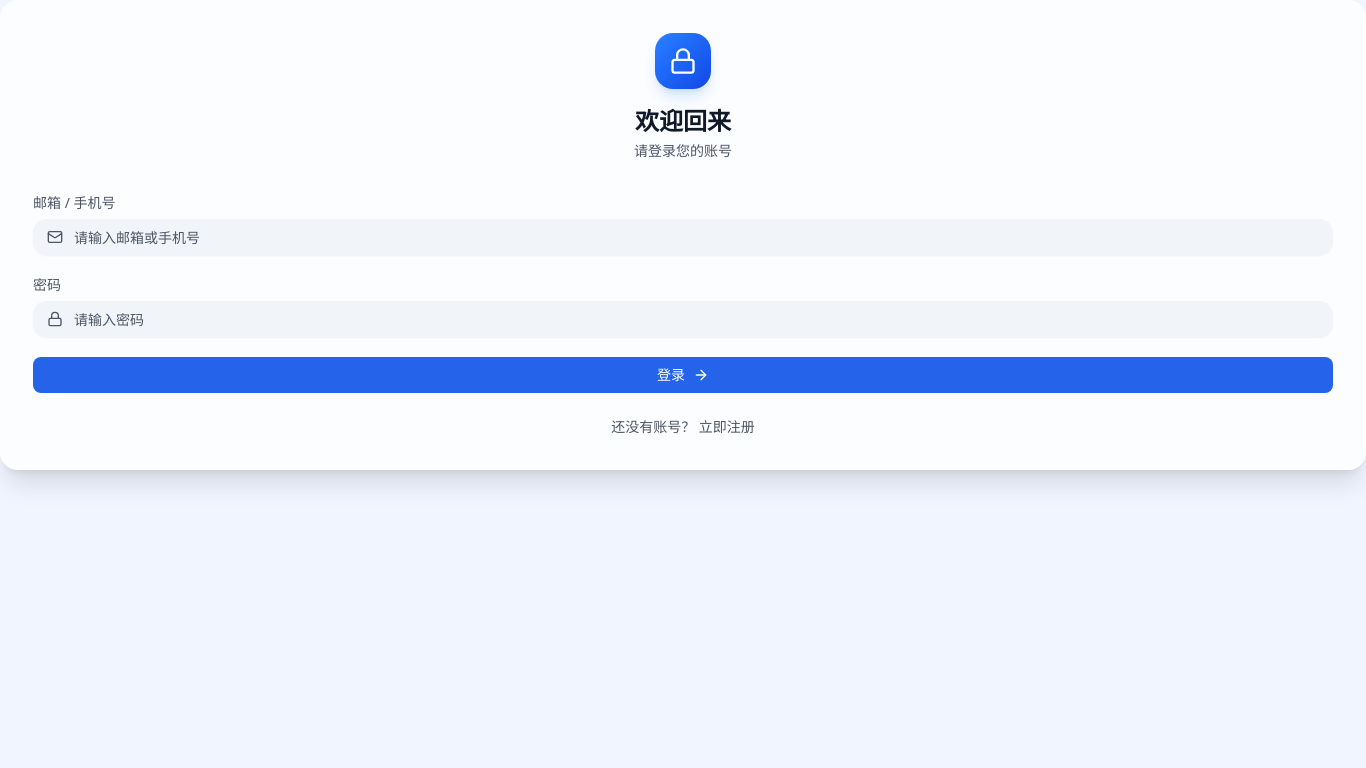
LoginForm › shows password validation error for short password
This screenshot has width=1366, height=768.
Step 1. Type "12" into the password field labelled "密码" → (683, 319), box top-left (33, 301), bottom-right (1333, 337)
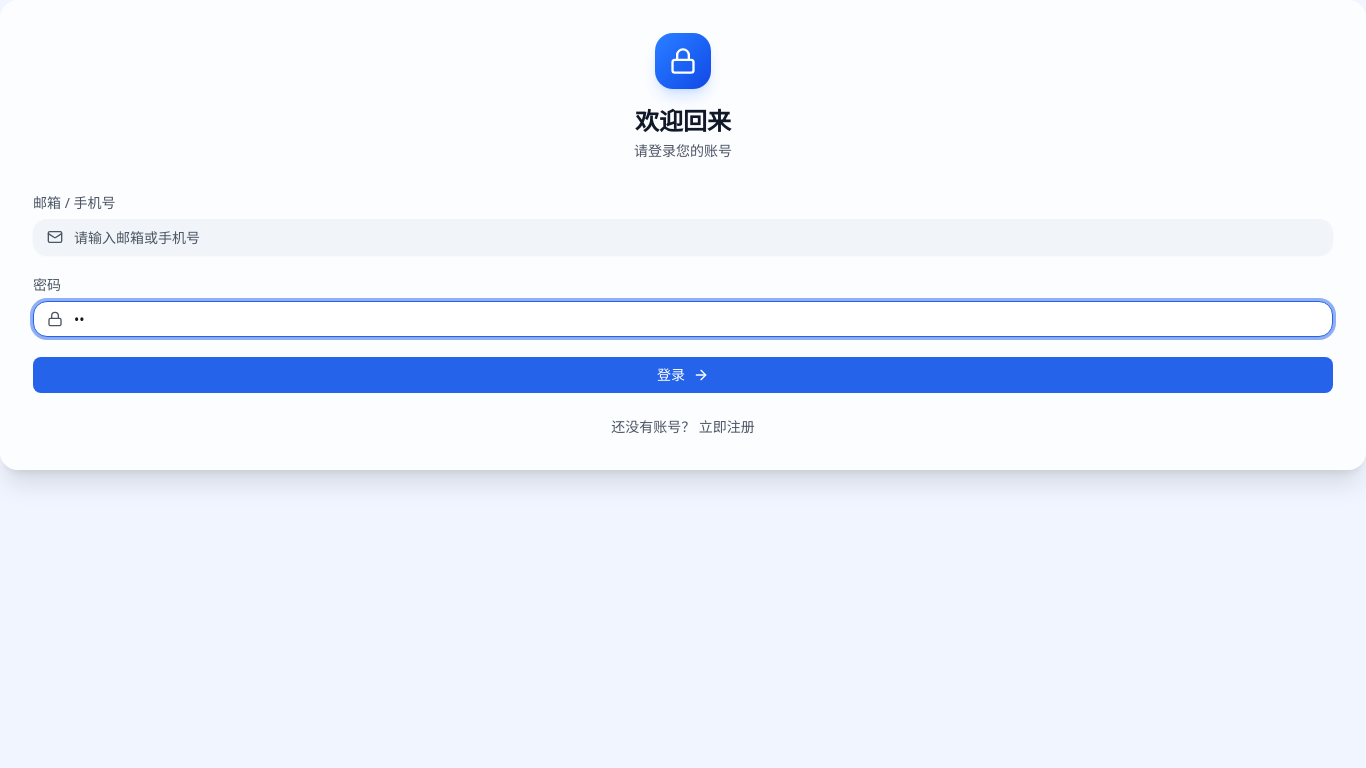
# Trigger blur
Step 2. Click the button "登录" → (683, 375), box top-left (33, 357), bottom-right (1333, 393)
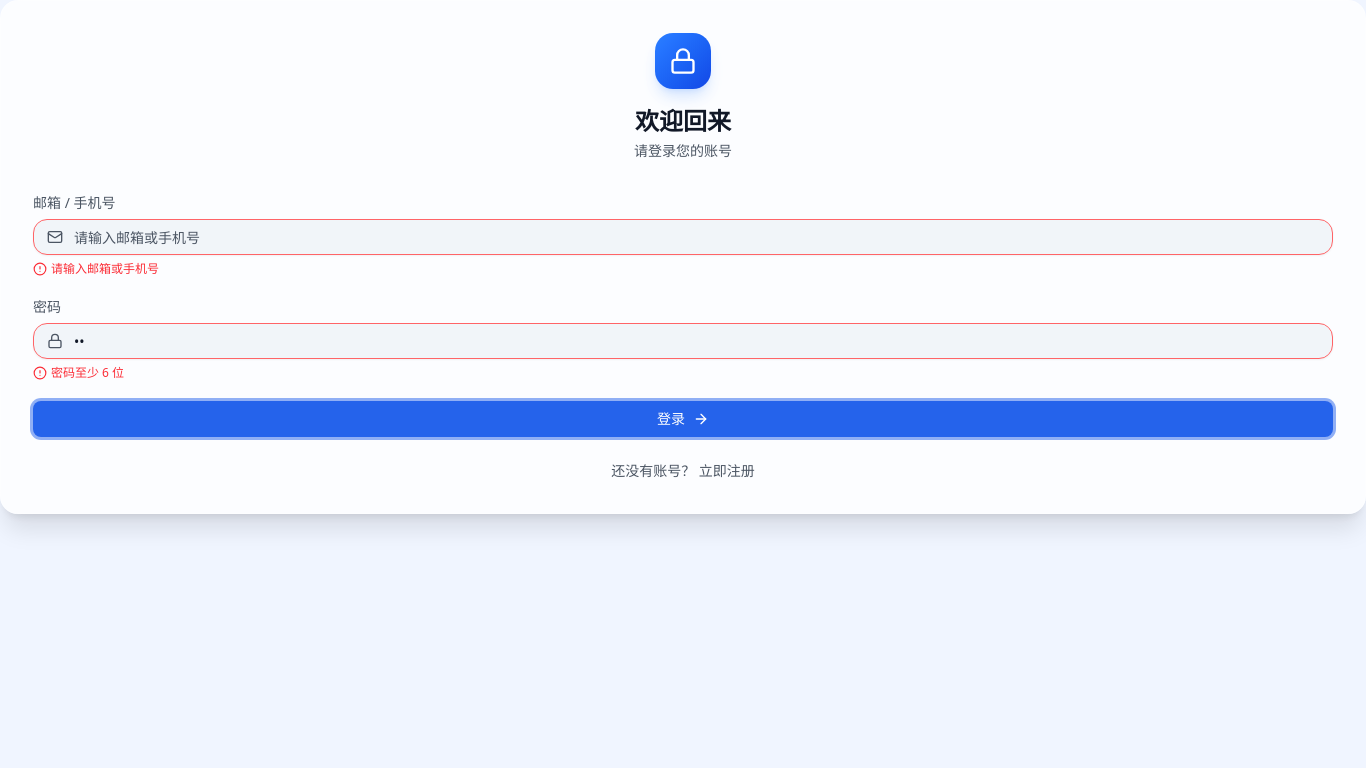
Expected: the text "密码至少 6 位" is shown, top-left (33, 364), bottom-right (124, 381)
